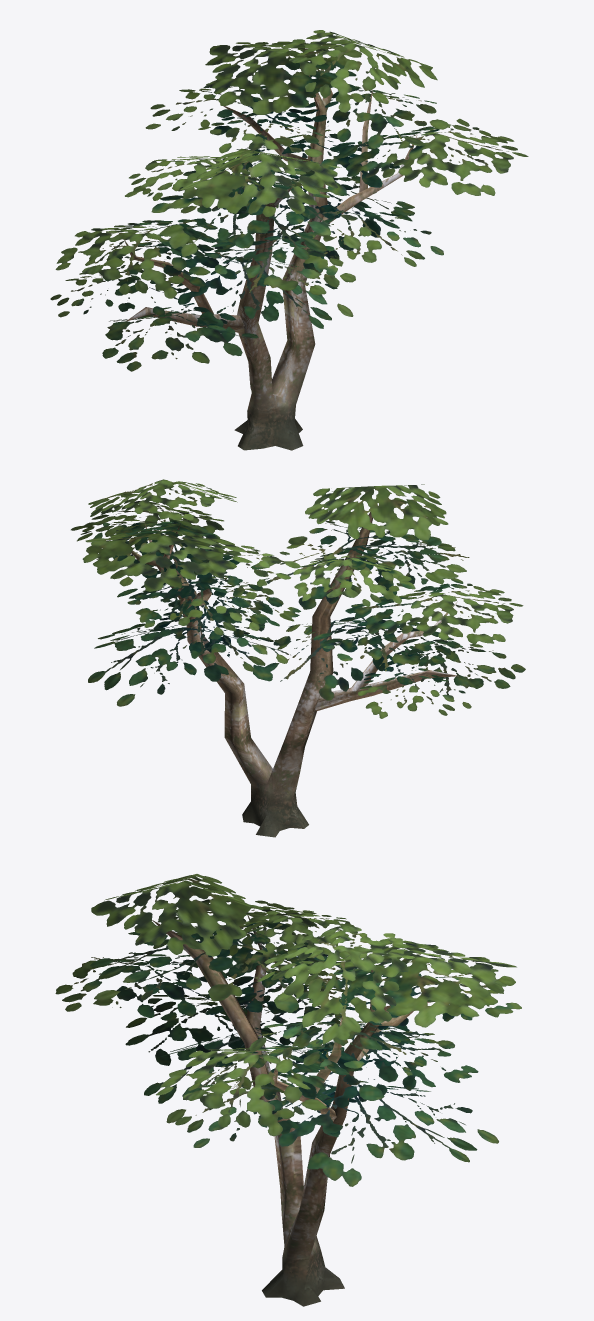
File: Beech_01_A.fbx
3 views of the same model, one above another, from view 1: azimuth 30°, elevation 25°; view 2: azimuth 150°, elevation 25°; view 3: azimuth 270°, elevation 25° (orthographic). The views are drawn at different scales.
Parts seen in each view (by area): view 1: Beech_01_A; view 2: Beech_01_A; view 3: Beech_01_A.
Boxes of the visible parts, x1,y1,x2,y2 form: Beech_01_A: [50, 30, 528, 450]; Beech_01_A: [71, 479, 525, 837]; Beech_01_A: [55, 874, 521, 1306].
Size of the model in its own units: 3137 by 2097 by 2730.
